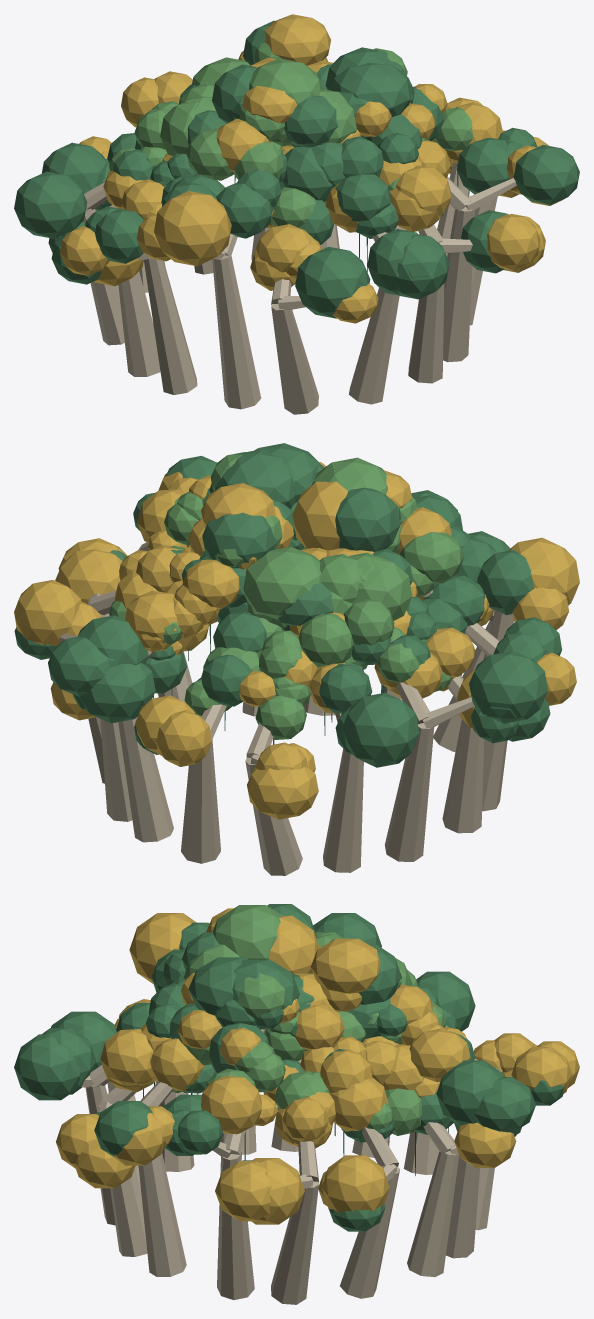
File: aelith_canopee.glb
3 views of the same model, one above another, from view 1: azimuth 30°, elevation 25°; view 2: azimuth 150°, elevation 25°; view 3: azimuth 270°, elevation 25° (orthographic). The views are drawn at different scales.
Visible parts, largest first — view 1: aelith_canopee; view 2: aelith_canopee; view 3: aelith_canopee.
Boxes of the visible parts, x1=… form: aelith_canopee: x1=14, y1=14, x2=579, y2=414; aelith_canopee: x1=14, y1=443, x2=579, y2=875; aelith_canopee: x1=14, y1=904, x2=579, y2=1304.
Bounding box in the file's own units: 196 × 114 × 193.
